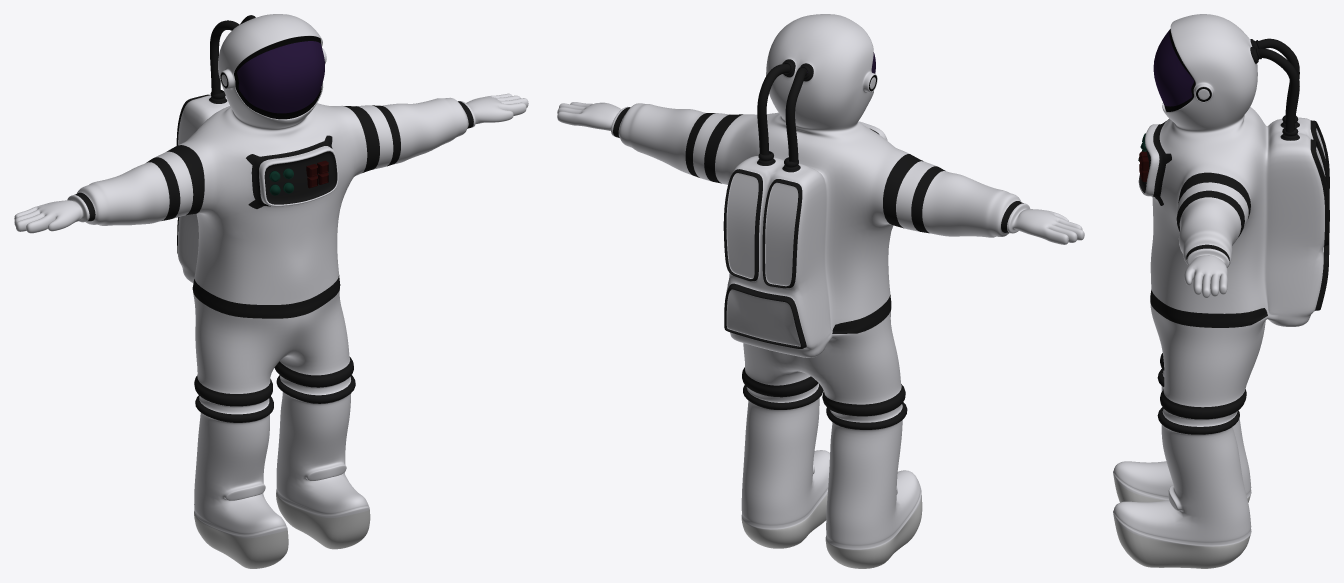
Rendered from FIVERR ASTRONAUTA para regalar .obj.
3 views of the same model, side by side, from view 1: azimuth 30°, elevation 25°; view 2: azimuth 150°, elevation 25°; view 3: azimuth 270°, elevation 25° (orthographic). The views are drawn at different scales.
Parts seen in each view (by area): view 1: Cube_Cube.001, BezierCurve_BezierCurve.002; view 2: Cube_Cube.001, BezierCurve.001_BezierCurve.003, BezierCurve_BezierCurve.002; view 3: Cube_Cube.001, BezierCurve.001_BezierCurve.003, BezierCurve_BezierCurve.002.
Part boxes in pixels (x1,y1,x2,y2): Cube_Cube.001: [14, 14, 528, 568]; BezierCurve_BezierCurve.002: [210, 20, 239, 94]; Cube_Cube.001: [557, 14, 1084, 568]; BezierCurve.001_BezierCurve.003: [757, 64, 790, 155]; BezierCurve_BezierCurve.002: [785, 67, 806, 162]; Cube_Cube.001: [1113, 14, 1329, 568]; BezierCurve.001_BezierCurve.003: [1257, 48, 1299, 132]; BezierCurve_BezierCurve.002: [1257, 38, 1299, 117].
Size of the model in its own units: 2.48 by 2.4 by 0.9028.
